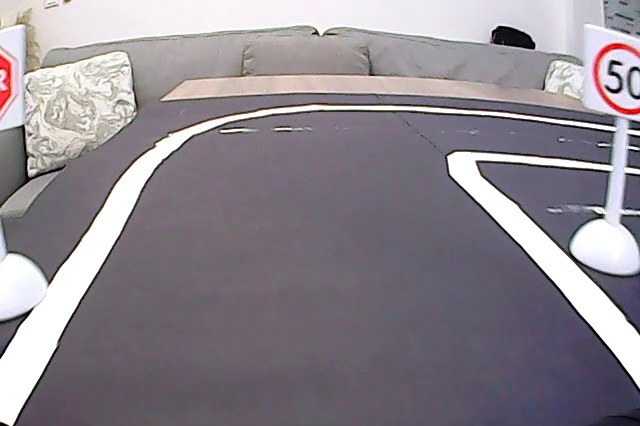speed limit 50: (589, 26, 640, 117)
